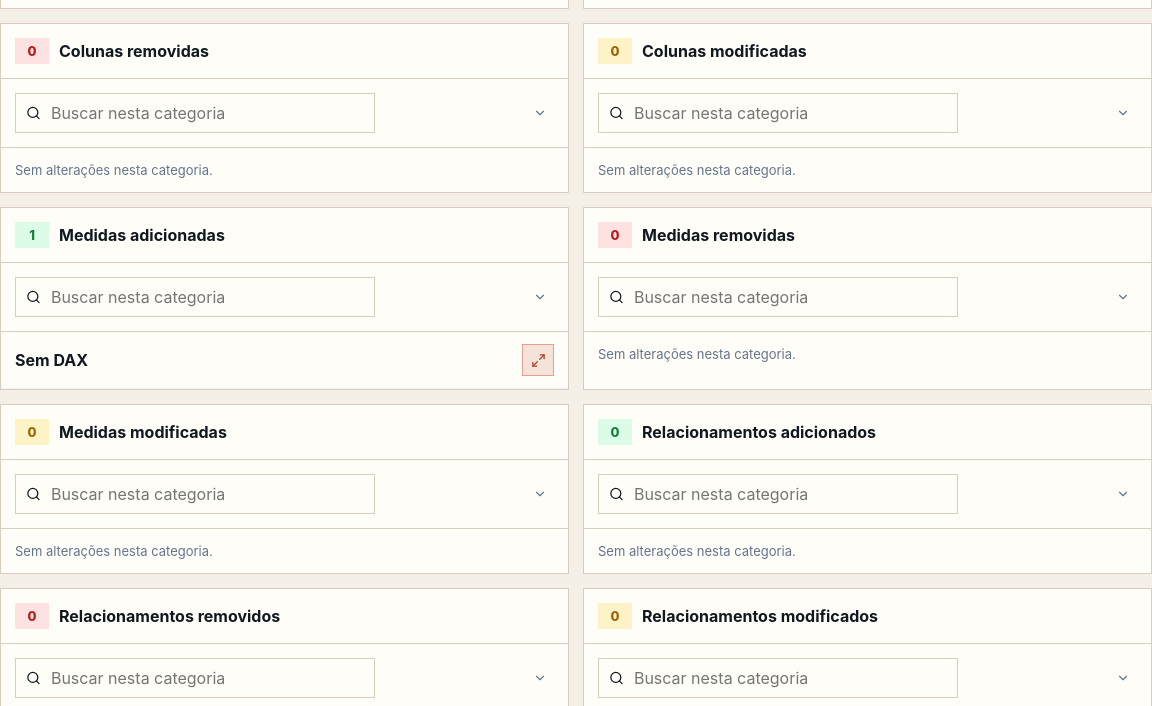
CompareView › exibe mensagem neutra quando medida adicionada não tem expressão
(page scrolled)
expect the list item "Sem DAX" is shown: met, box x1=1 y1=332 x2=568 y2=389
Click the button named "expandir detalhe" at (538, 360), box x1=522 y1=344 x2=554 y2=376
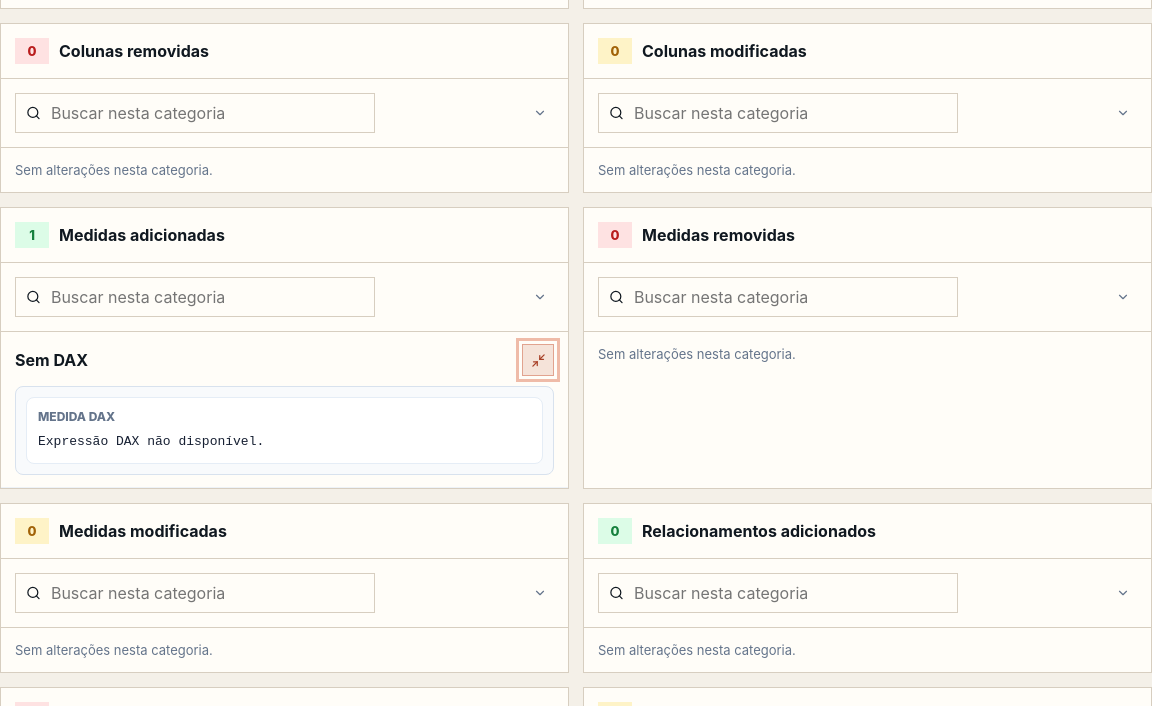
expect the text "Expressão DAX não disponível." is shown: met, box x1=38 y1=434 x2=264 y2=449
